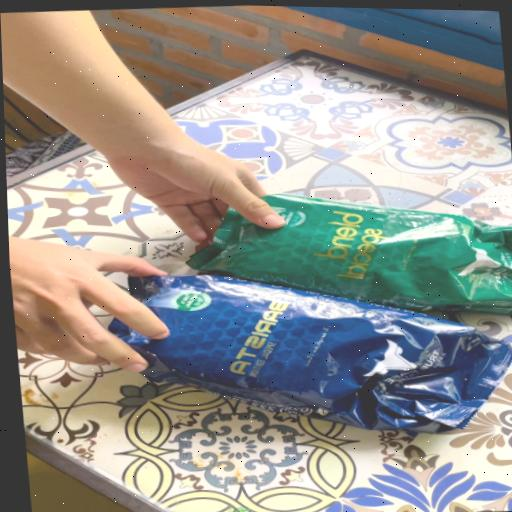cafe_hat: (110, 275, 512, 433)
cafe_xay: (187, 194, 512, 316)
